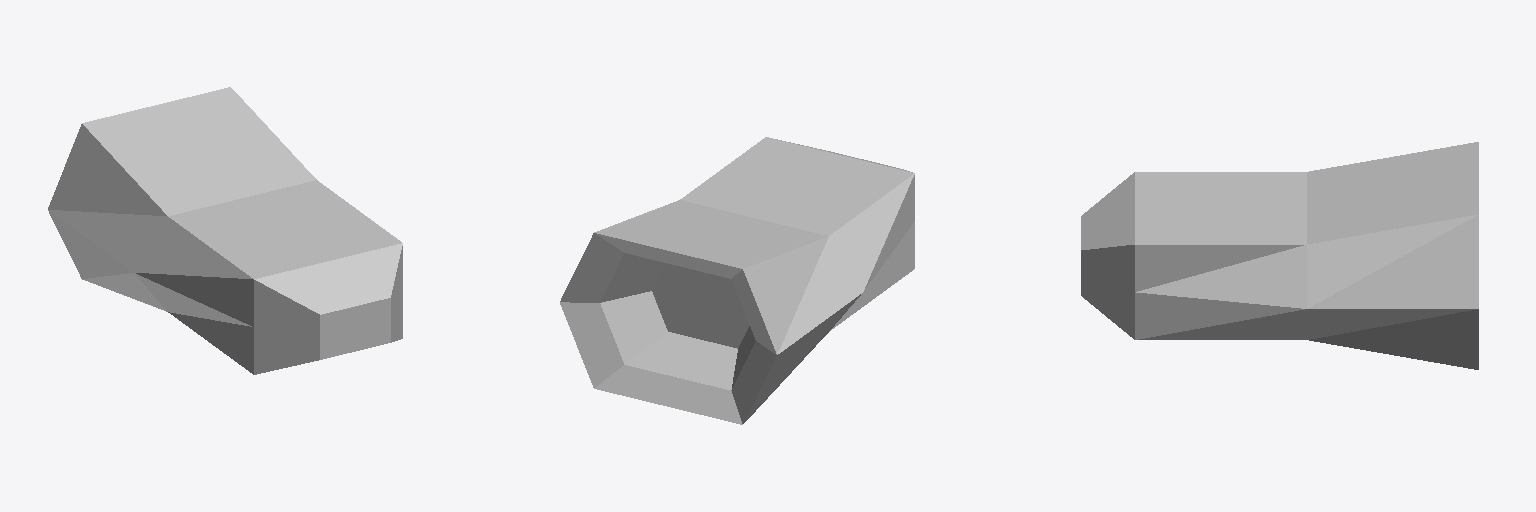
File: LilSpeake1.obj
The picture shows the model from 3 angles: view 1: azimuth 30°, elevation 25°; view 2: azimuth 150°, elevation 25°; view 3: azimuth 270°, elevation 25°; orthographic projection.
Visible parts, largest first — view 1: Cube; view 2: Cube; view 3: Cube.
Boxes of the visible parts, x1,y1,x2,y2 form: Cube: [48, 87, 402, 374]; Cube: [560, 137, 914, 424]; Cube: [1081, 142, 1478, 369].
Size of the model in its own units: 0.3649 by 0.25 by 0.5786.